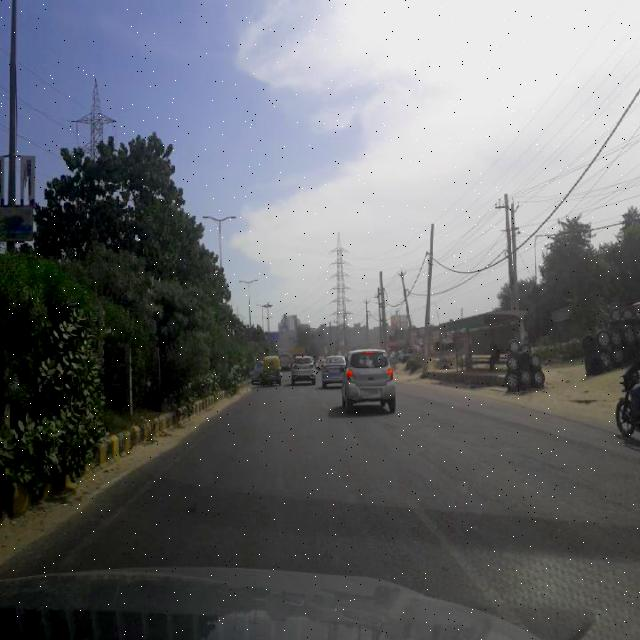D20: (53, 435, 623, 569)
D44: (394, 470, 514, 618)
